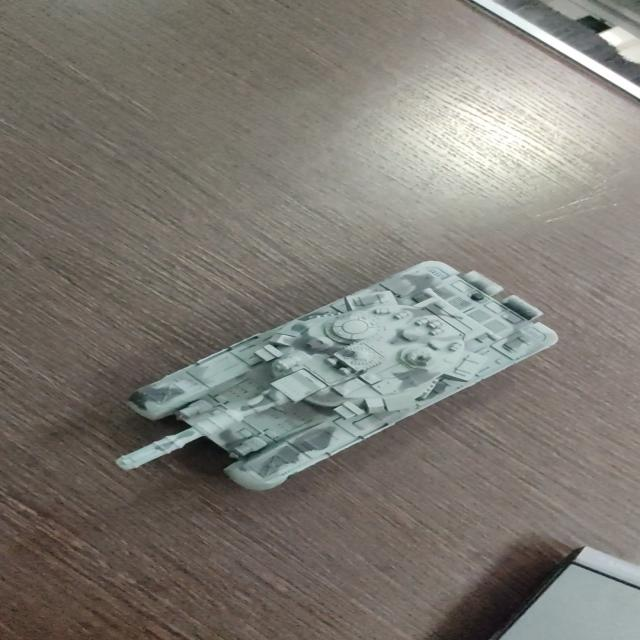tank: (110, 254, 572, 497)
